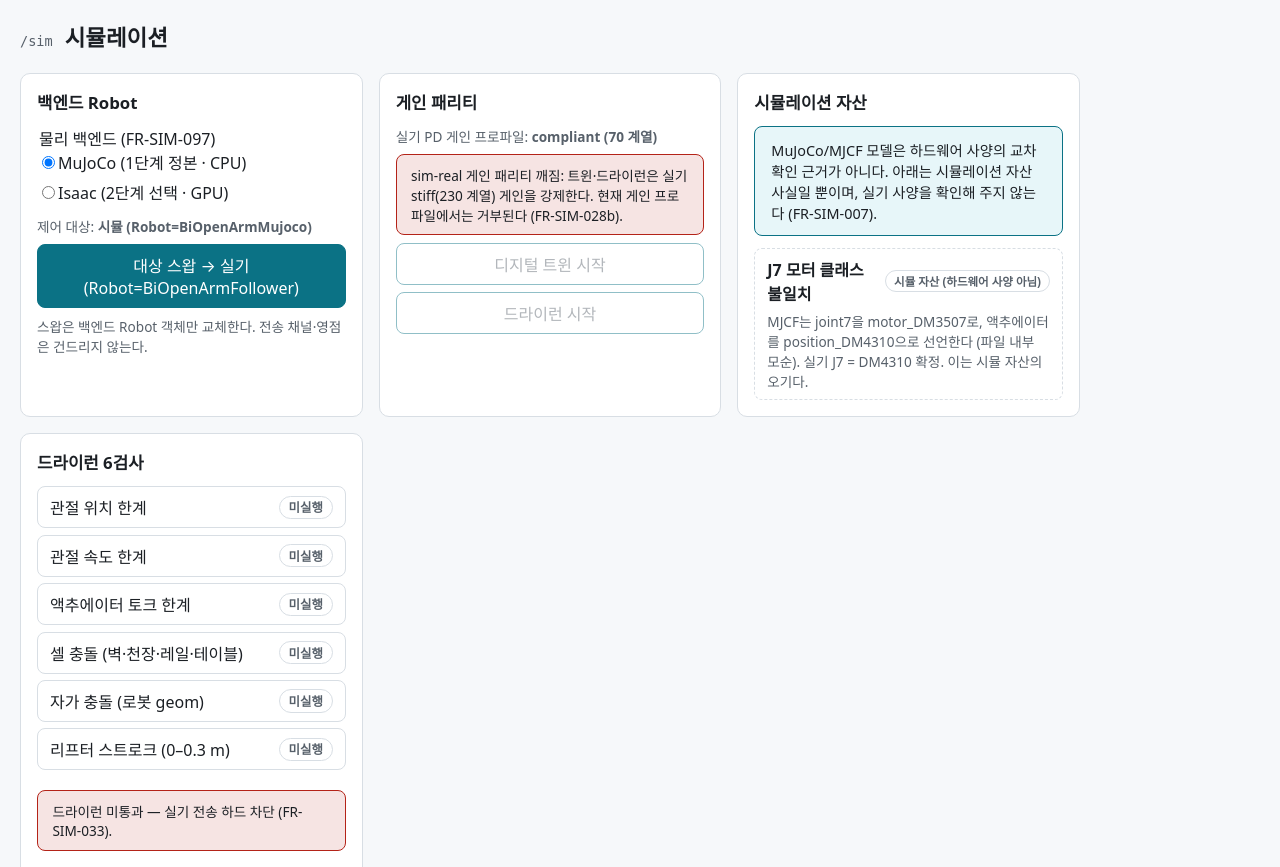
Test case: SimScreen (WP-G-S09) › swaps the control target as a pure state change
Check: the heading "시뮬레이션" is shown, box [65,20,168,53]
Click the button "대상 스왑 → 실기 (Robot=BiOpenArmFollower)": (191, 276) [37,244,346,308]
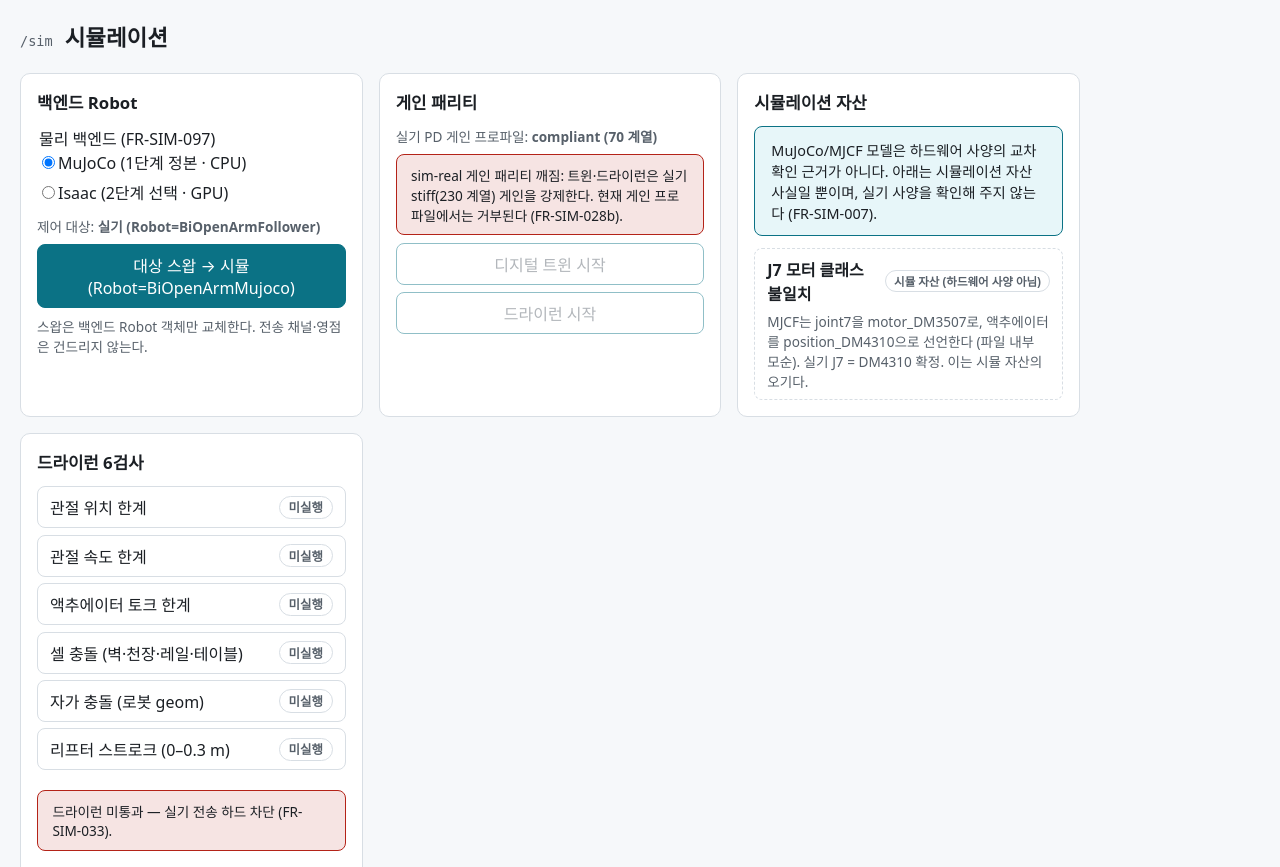
Check: the button "대상 스왑 → 시뮬 (Robot=BiOpenArmMujoco)" is shown, box [37,244,346,308]
